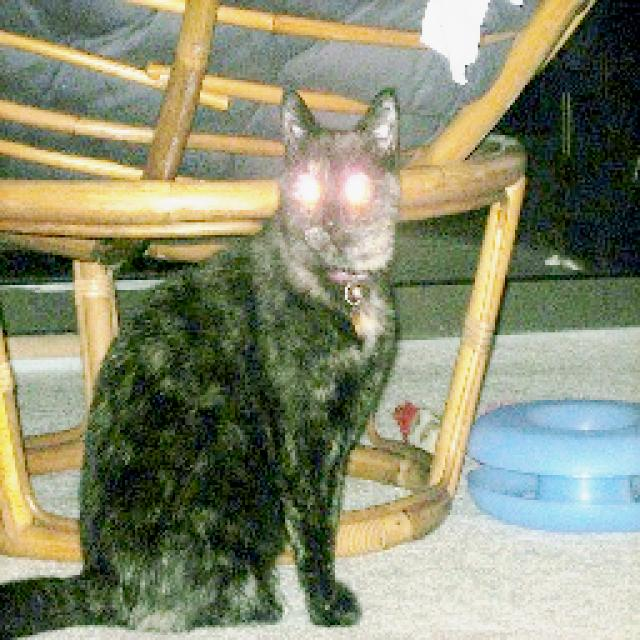cat: (1, 90, 403, 634)
